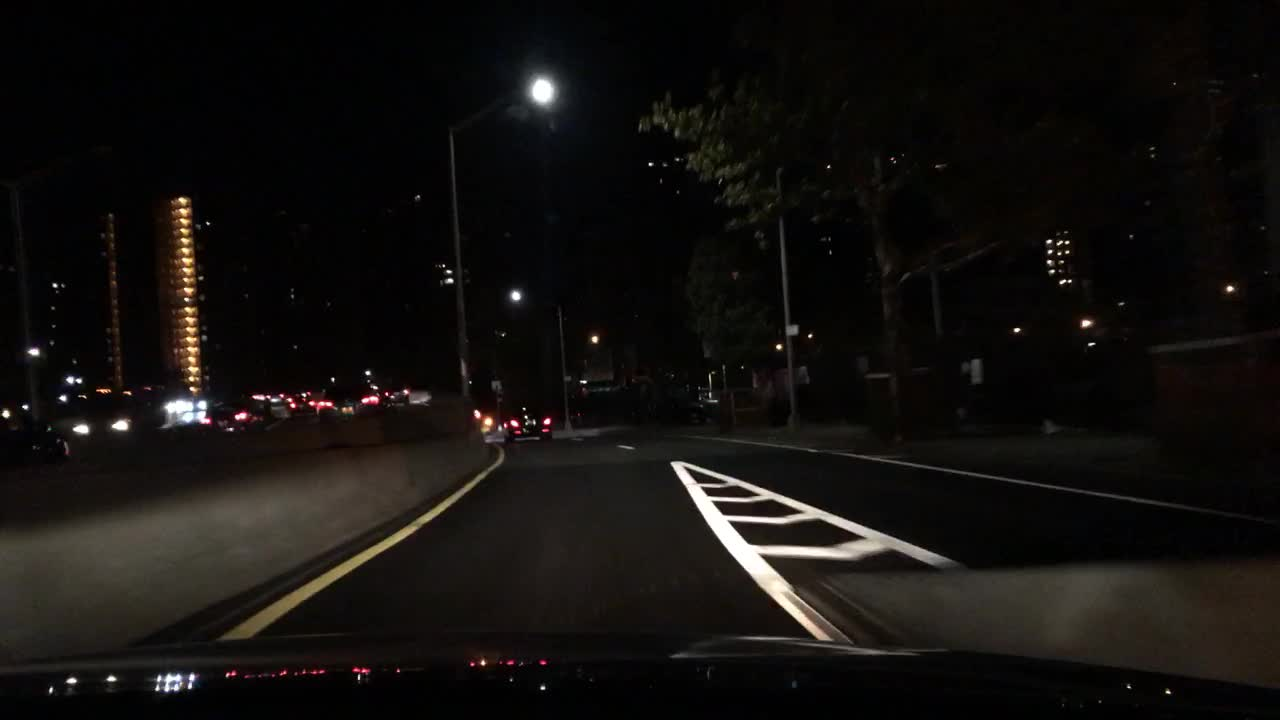car: (1, 422, 71, 468), (623, 391, 714, 425), (314, 376, 377, 422), (198, 397, 268, 438), (72, 402, 139, 434), (504, 406, 554, 439), (162, 396, 202, 416), (162, 409, 203, 427), (380, 379, 410, 403), (287, 392, 316, 416), (471, 411, 495, 436), (266, 393, 287, 416)
traffic sign: (967, 360, 983, 386), (784, 324, 802, 335), (491, 383, 501, 395), (684, 492, 702, 493)
